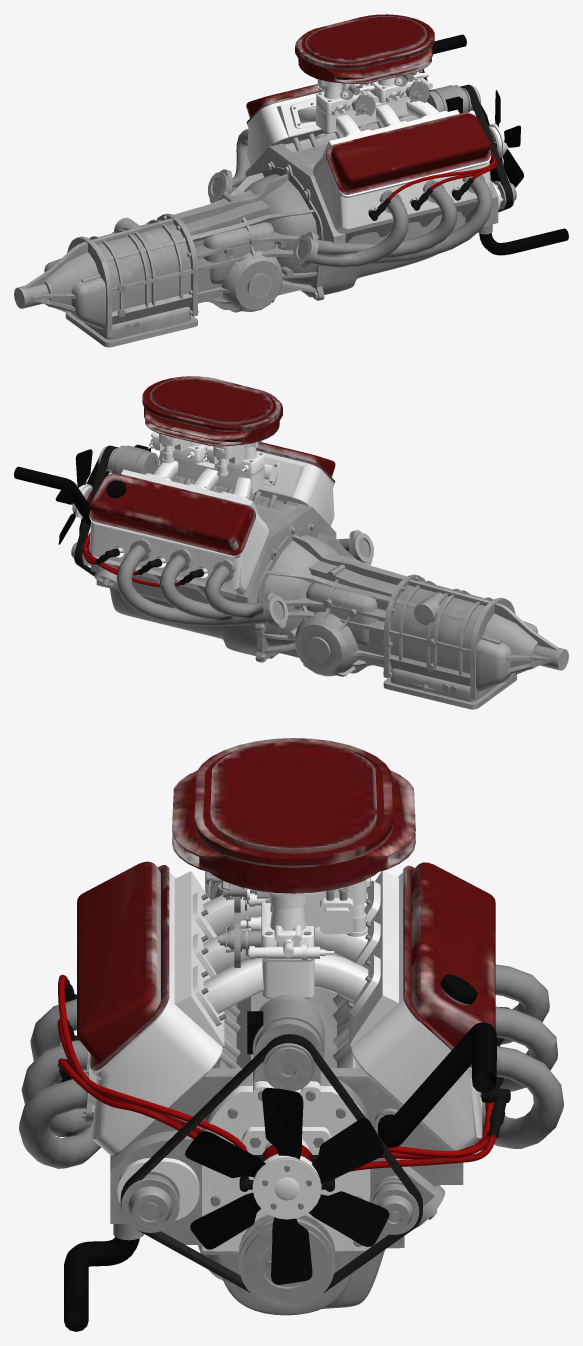
File: motor-v6.glb
The picture shows the model from 3 angles, top to bottom: view 1: azimuth 30°, elevation 25°; view 2: azimuth 150°, elevation 25°; view 3: azimuth 270°, elevation 25°; orthographic projection. The views are drawn at different scales.
Visible parts, largest first — view 1: hute_gearbox.001, Plane.010, Cylinder.028, Cylinder.039, Cube.005, Plane.001, Cube.011, Plane.005, Cylinder.038, Cube.006, Plane.003, hute_pulley_crank.002 (+8 smaller); view 2: hute_gearbox.001, Plane.006, Plane.009, Cylinder.039, Plane.005, Cube.005, Cube.011, Plane.001, Plane.003, Cylinder.038, Cube.006, Cylinder.023 (+7 smaller); view 3: Cylinder.039, hute_pulley_crank.002, Cube.005, Plane.010, Plane.001, Plane.006, Plane.005, Cube.011, Cylinder.038, Plane.009, Cylinder.028, Cube.002 (+12 smaller).
Part boxes in pixels (left/top/right/bottom): hute_gearbox.001: left=14, top=161, right=324, bottom=347; Plane.010: left=326, top=112, right=491, bottom=194; Cylinder.028: left=293, top=175, right=492, bottom=268; Cylinder.039: left=297, top=14, right=434, bottom=69; Cube.005: left=245, top=113, right=498, bottom=244; Plane.001: left=313, top=109, right=491, bottom=233; Cube.011: left=289, top=78, right=447, bottom=137; Plane.005: left=247, top=83, right=370, bottom=166; Cylinder.038: left=295, top=37, right=432, bottom=83; Cube.006: left=315, top=78, right=378, bottom=115; Plane.003: left=300, top=229, right=456, bottom=297; hute_pulley_crank.002: left=480, top=90, right=523, bottom=187; hute_gearbox.001: left=255, top=522, right=568, bottom=709; Plane.006: left=89, top=473, right=255, bottom=555; Plane.009: left=116, top=538, right=288, bottom=629; Cylinder.039: left=142, top=376, right=280, bottom=431; Plane.005: left=89, top=469, right=268, bottom=594; Cube.005: left=71, top=475, right=336, bottom=603; Cube.011: left=145, top=447, right=280, bottom=499; Plane.001: left=158, top=445, right=334, bottom=526; Plane.003: left=96, top=583, right=278, bottom=658; Cylinder.038: left=144, top=399, right=282, bottom=446; Cube.006: left=202, top=442, right=264, bottom=476; Cylinder.023: left=98, top=444, right=158, bottom=474; Cylinder.039: left=194, top=738, right=392, bottom=867; hute_pulley_crank.002: left=185, top=1087, right=389, bottom=1284; Cube.005: left=110, top=929, right=463, bottom=1244; Plane.010: left=77, top=861, right=169, bottom=1070; Plane.001: left=82, top=871, right=226, bottom=1155; Plane.006: left=403, top=862, right=495, bottom=1067; Plane.005: left=347, top=870, right=482, bottom=1150; Cube.011: left=192, top=880, right=380, bottom=1026; Cylinder.038: left=172, top=770, right=415, bottom=893; Plane.009: left=482, top=964, right=563, bottom=1148; Cylinder.028: left=19, top=999, right=100, bottom=1168; Cube.002: left=218, top=878, right=369, bottom=967.
Size of the model in its own units: 1.41 by 0.6353 by 0.6757.
14 materials, 10 textured.
